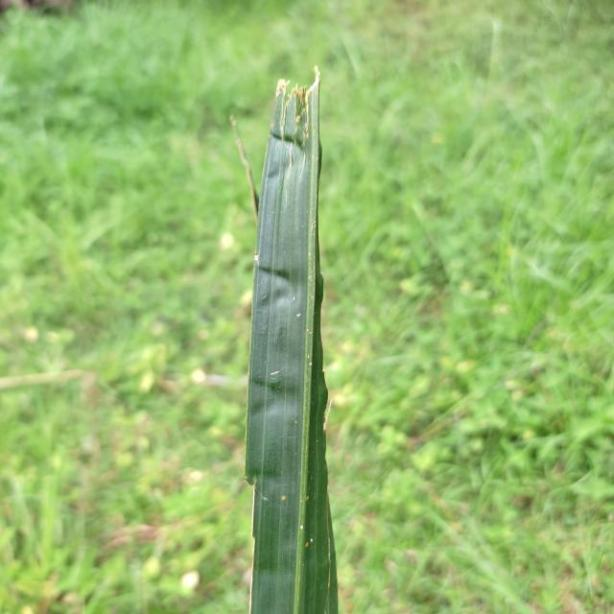Boron: (237, 69, 342, 614)
